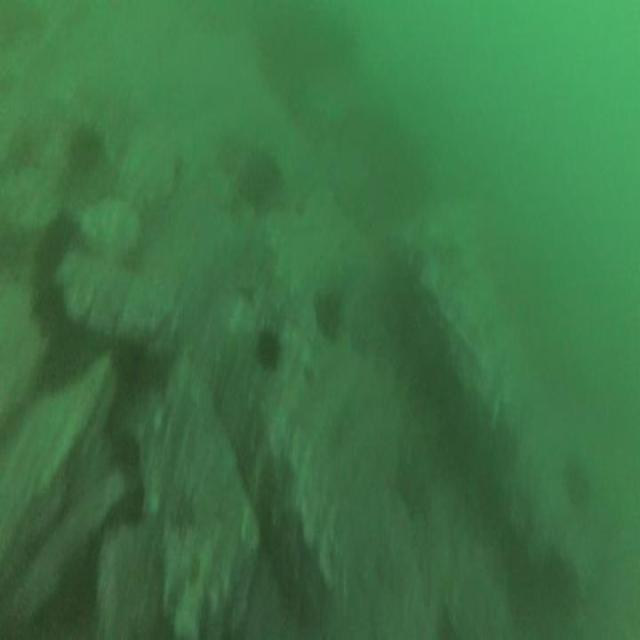echinus: (238, 153, 276, 204), (71, 123, 104, 177), (316, 296, 345, 330), (255, 332, 278, 370)
